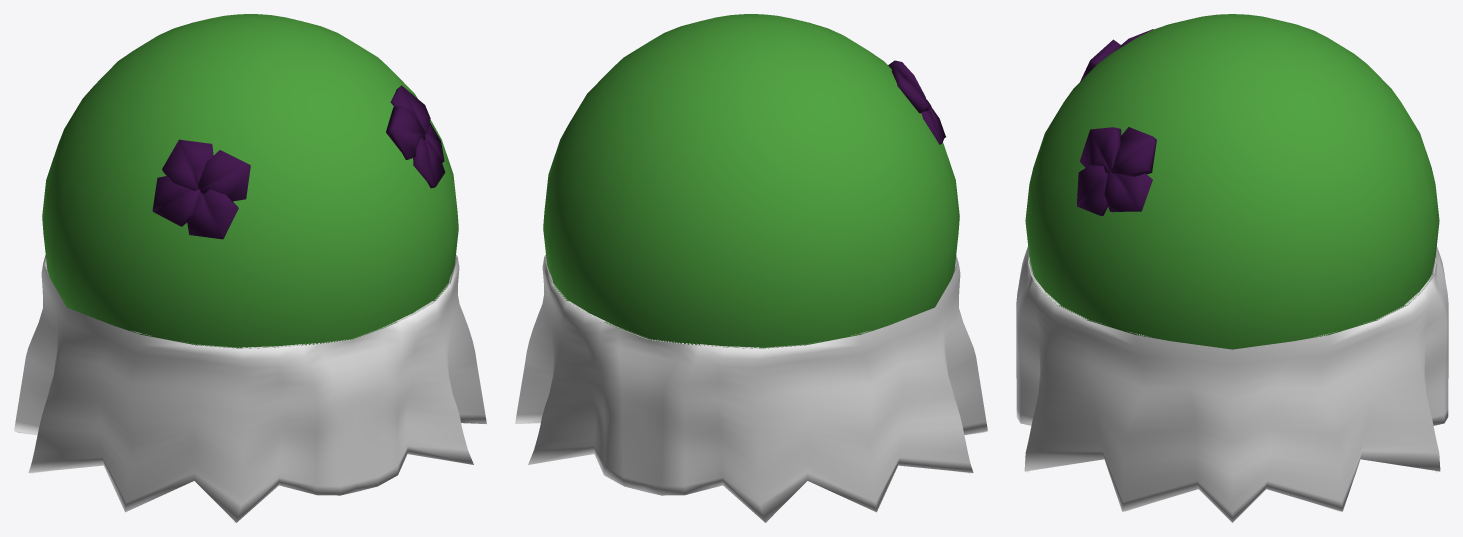
The model's file is bolitas9.fbx.
The picture shows the model from 3 angles, left to right: view 1: azimuth 30°, elevation 25°; view 2: azimuth 150°, elevation 25°; view 3: azimuth 270°, elevation 25°; orthographic projection.
Visible parts, largest first — view 1: Sphere.007, Cube.008, FLOR.010; view 2: Sphere.007, Cube.008, FLOR.010; view 3: Sphere.007, Cube.008, FLOR.010.
Boxes of the visible parts, left/top/right/bottom form: Sphere.007: left=42, top=14, right=458, bottom=348; Cube.008: left=14, top=254, right=486, bottom=522; FLOR.010: left=152, top=85, right=445, bottom=239; Sphere.007: left=543, top=14, right=959, bottom=348; Cube.008: left=515, top=254, right=987, bottom=522; FLOR.010: left=888, top=60, right=945, bottom=144; Sphere.007: left=1025, top=14, right=1439, bottom=349; Cube.008: left=1016, top=246, right=1448, bottom=522; FLOR.010: left=1077, top=29, right=1156, bottom=215.
Bounding box in the file's own units: 246 × 209 × 209.
